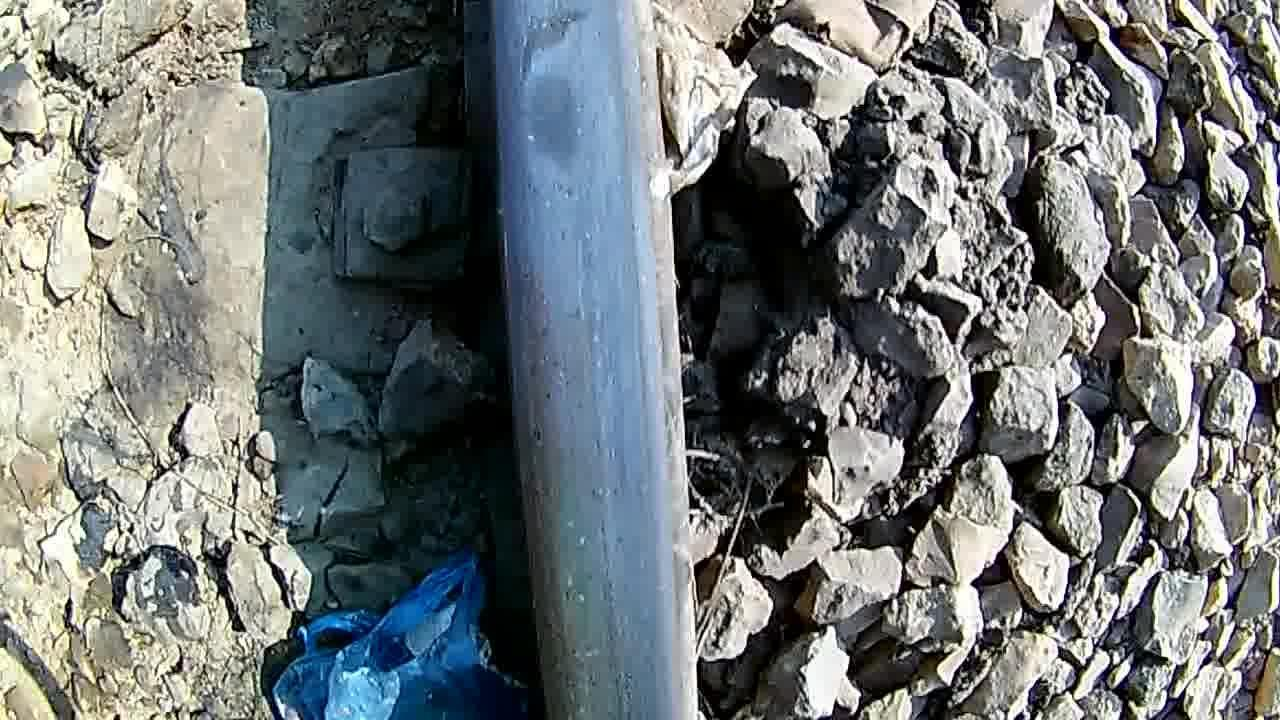crack: (470, 0, 656, 263)
